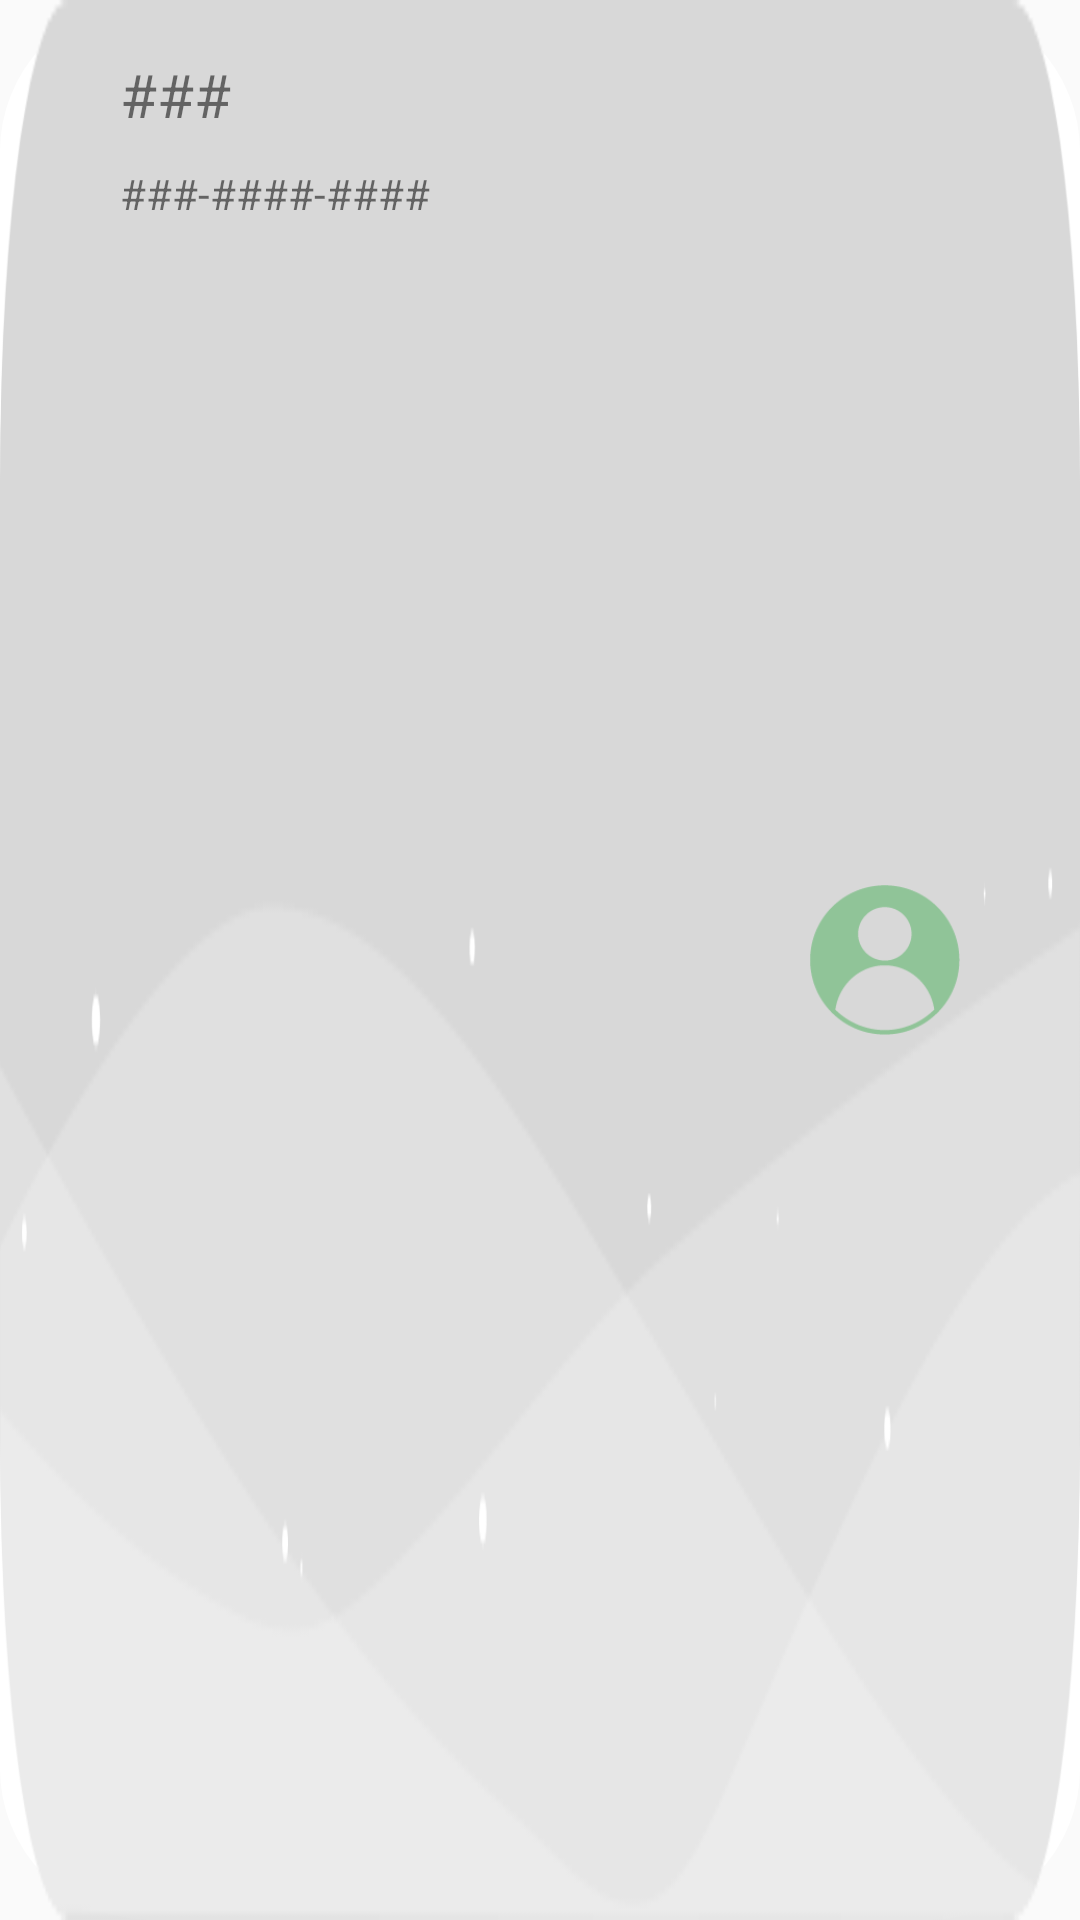

Screen size 1080x1920. Icon name, then its box in pixels as bbox(x1, y1, x2, y2):
profile: bbox(810, 885, 960, 1035)
